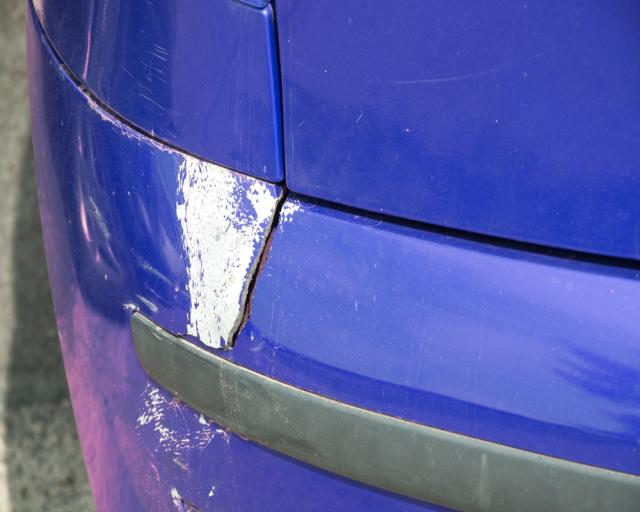crack: (227, 186, 289, 351)
scratch: (135, 385, 232, 511)
